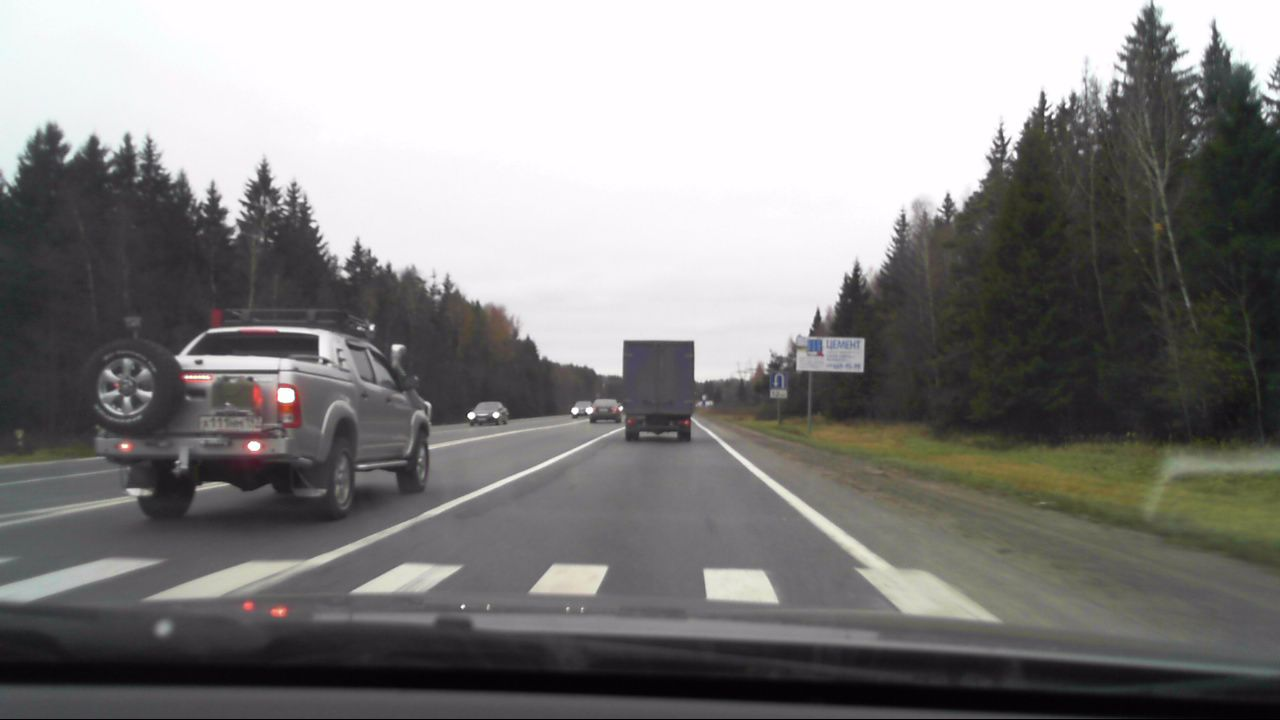U-turn: (771, 372, 785, 388)
